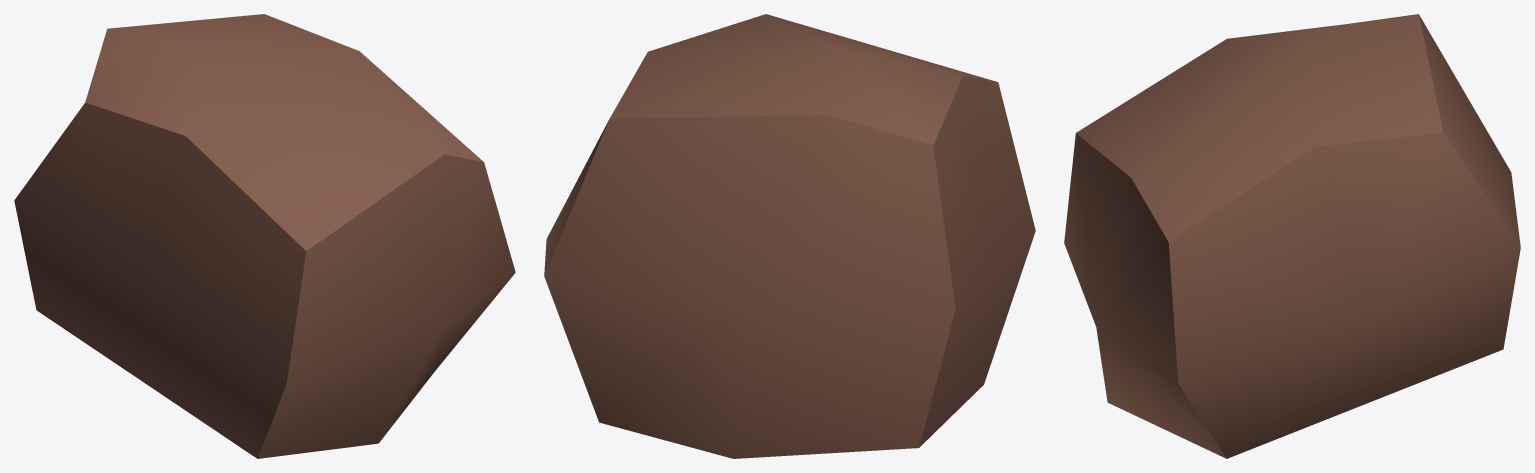
File: cozy_lake_stone2_003.glb
The picture shows the model from 3 angles, left to right: view 1: azimuth 30°, elevation 25°; view 2: azimuth 150°, elevation 25°; view 3: azimuth 270°, elevation 25°; orthographic projection. The views are drawn at different scales.
Parts seen in each view (by area): view 1: Stone2_003; view 2: Stone2_003; view 3: Stone2_003.
Part boxes in pixels (left/top/right/bottom): Stone2_003: left=14, top=14, right=515, bottom=458; Stone2_003: left=544, top=14, right=1035, bottom=458; Stone2_003: left=1064, top=14, right=1520, bottom=458.
Size of the model in its own units: 35.8 by 29.32 by 36.27.
